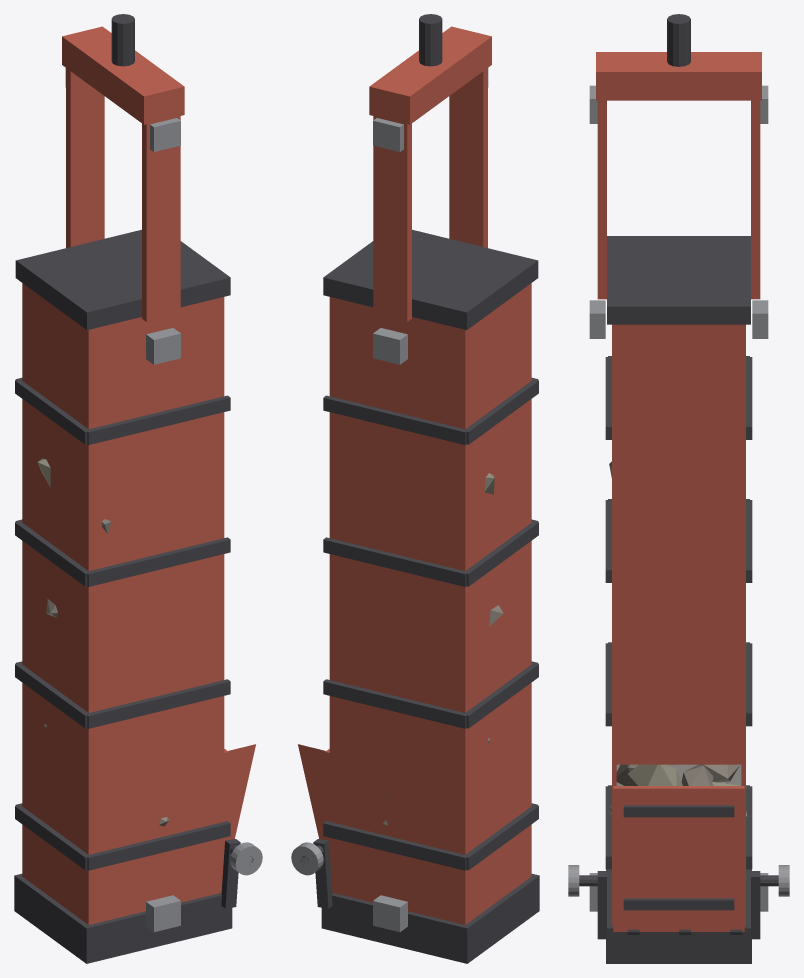
Rendered from EQ_Skip.glb.
3 views of the same model, side by side, from view 1: azimuth 30°, elevation 25°; view 2: azimuth 150°, elevation 25°; view 3: azimuth 270°, elevation 25° (orthographic).
Visible parts, largest first — view 1: SK_Skip_Body, SK_Skip_Door, SK_Skip_Ore; view 2: SK_Skip_Body, SK_Skip_Door; view 3: SK_Skip_Body, SK_Skip_Door, SK_Skip_Ore.
Boxes of the visible parts, <box> form: SK_Skip_Body: <box>14,14,232,963</box>; SK_Skip_Door: <box>221,744,262,908</box>; SK_Skip_Ore: <box>37,458,169,826</box>; SK_Skip_Body: <box>321,14,539,963</box>; SK_Skip_Door: <box>291,744,332,908</box>; SK_Skip_Body: <box>589,14,768,963</box>; SK_Skip_Door: <box>568,786,789,939</box>; SK_Skip_Ore: <box>608,461,747,817</box>.
Size of the model in its own units: 2.61 by 12.7 by 2.8.
